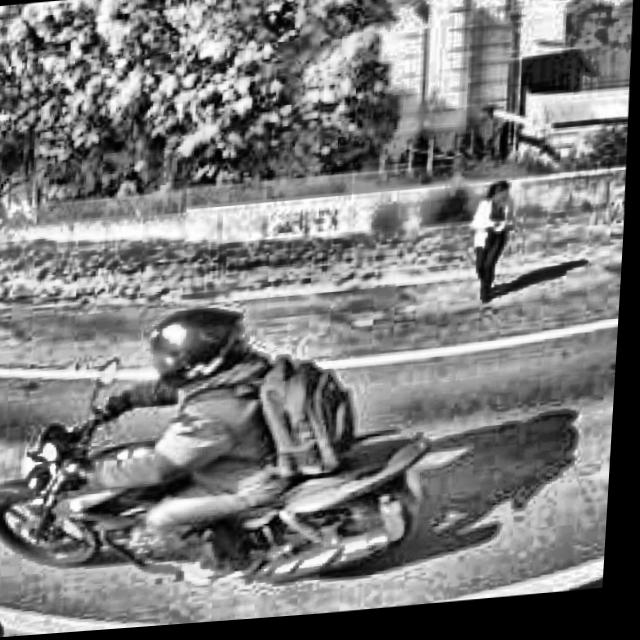motorcycle: (0, 328, 453, 617)
